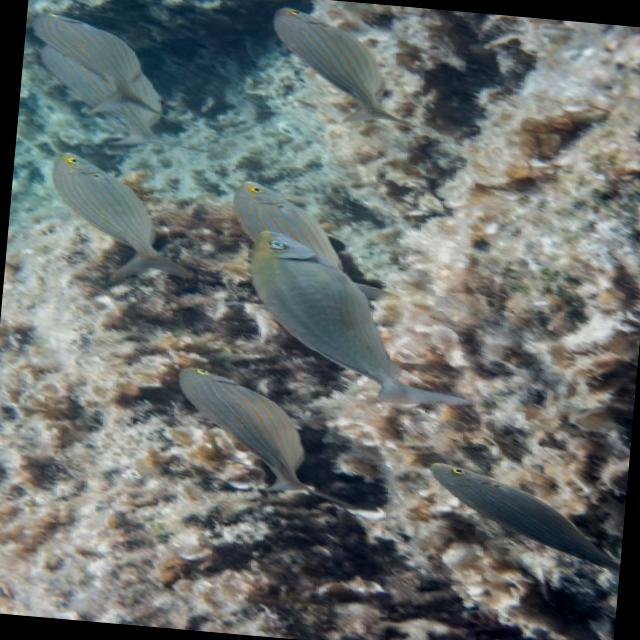Sokar Baligi: (140, 358, 371, 519), (240, 0, 436, 137), (28, 147, 209, 290)
